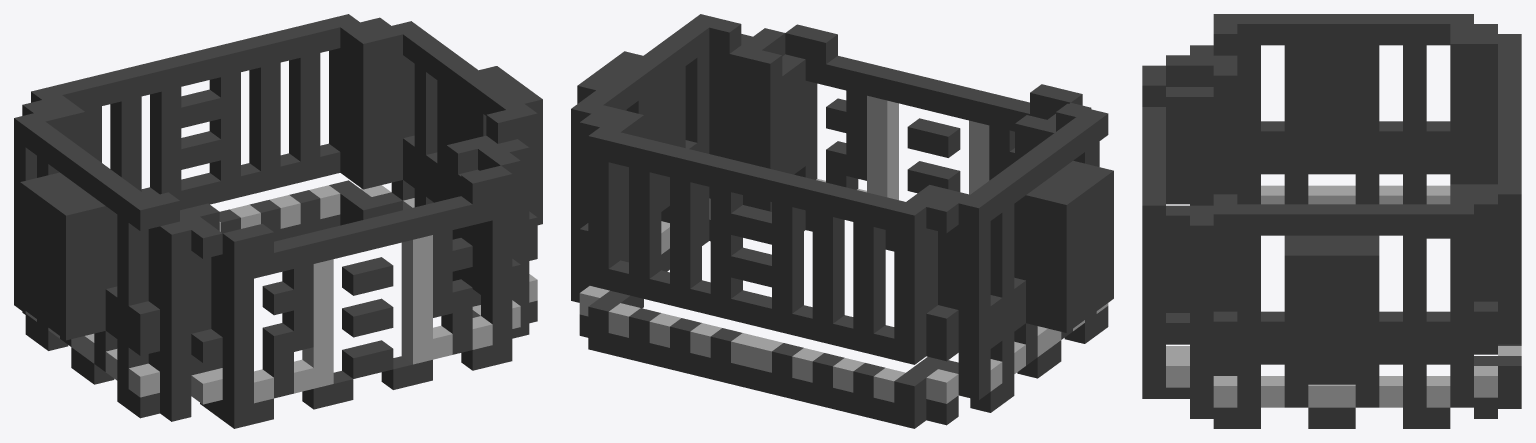
3 renders of one model, left to right at view 1: azimuth 30°, elevation 25°; view 2: azimuth 150°, elevation 25°; view 3: azimuth 270°, elevation 25°, orthographic. The views are drawn at different scales.
Parts seen in each view (by area): view 1: 43; view 2: 43; view 3: 43.
Boxes of the visible parts, x1,y1,x2,y2 form: 43: (14,14,542,428); 43: (571,14,1113,428); 43: (1142,14,1521,428).
Bounding box in the file's own units: 240 × 100 × 160.
1 material, 1 textured.
